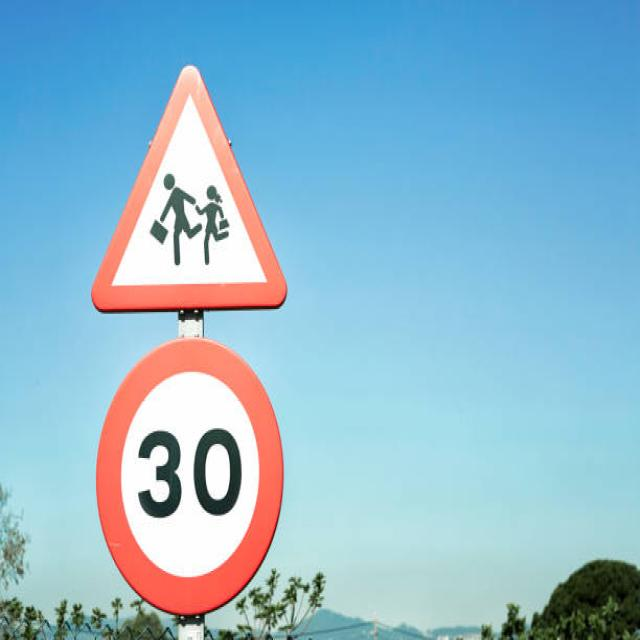Speed limit 30: (94, 334, 287, 618)
